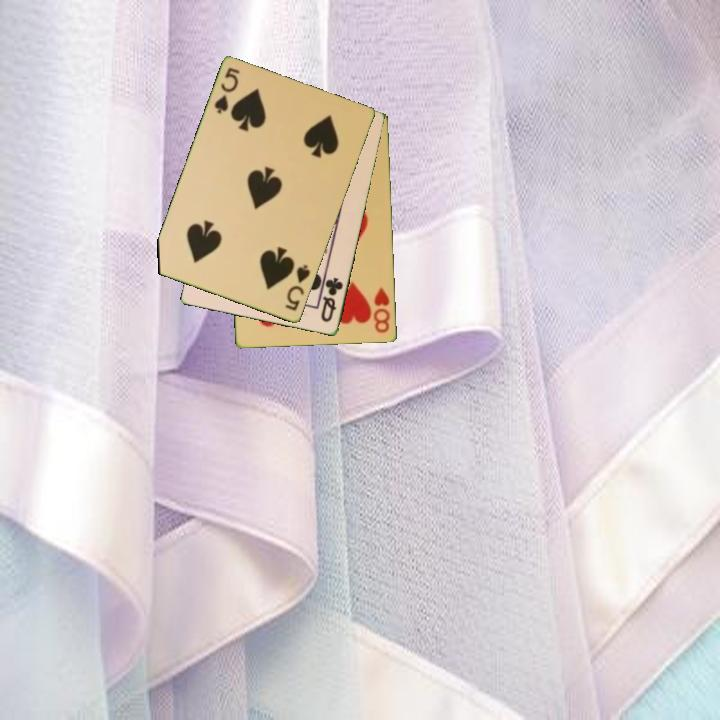5s: (211, 64, 243, 117), (282, 261, 313, 314)
8h: (370, 284, 393, 336)
Qc: (318, 274, 346, 325)
